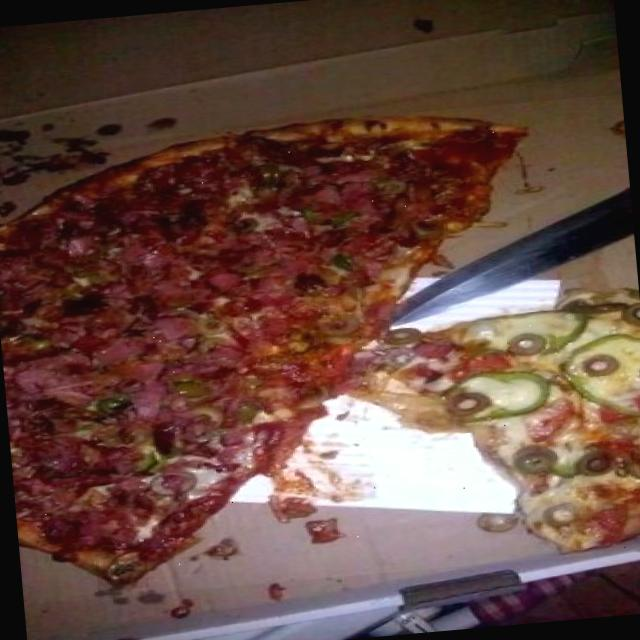Olive: (570, 439, 632, 490), (568, 293, 640, 334), (504, 442, 570, 482), (5, 324, 70, 362), (142, 462, 208, 498), (437, 386, 507, 419), (94, 549, 148, 591), (44, 276, 108, 310), (397, 212, 448, 248), (580, 340, 625, 380), (360, 171, 410, 206), (506, 327, 557, 361), (313, 308, 361, 344), (545, 494, 590, 529), (373, 324, 421, 356), (91, 390, 138, 422), (480, 507, 524, 537), (224, 211, 268, 237), (222, 397, 264, 424), (193, 312, 235, 339), (165, 378, 211, 402), (226, 256, 260, 273)
pizza: (0, 116, 640, 585)
